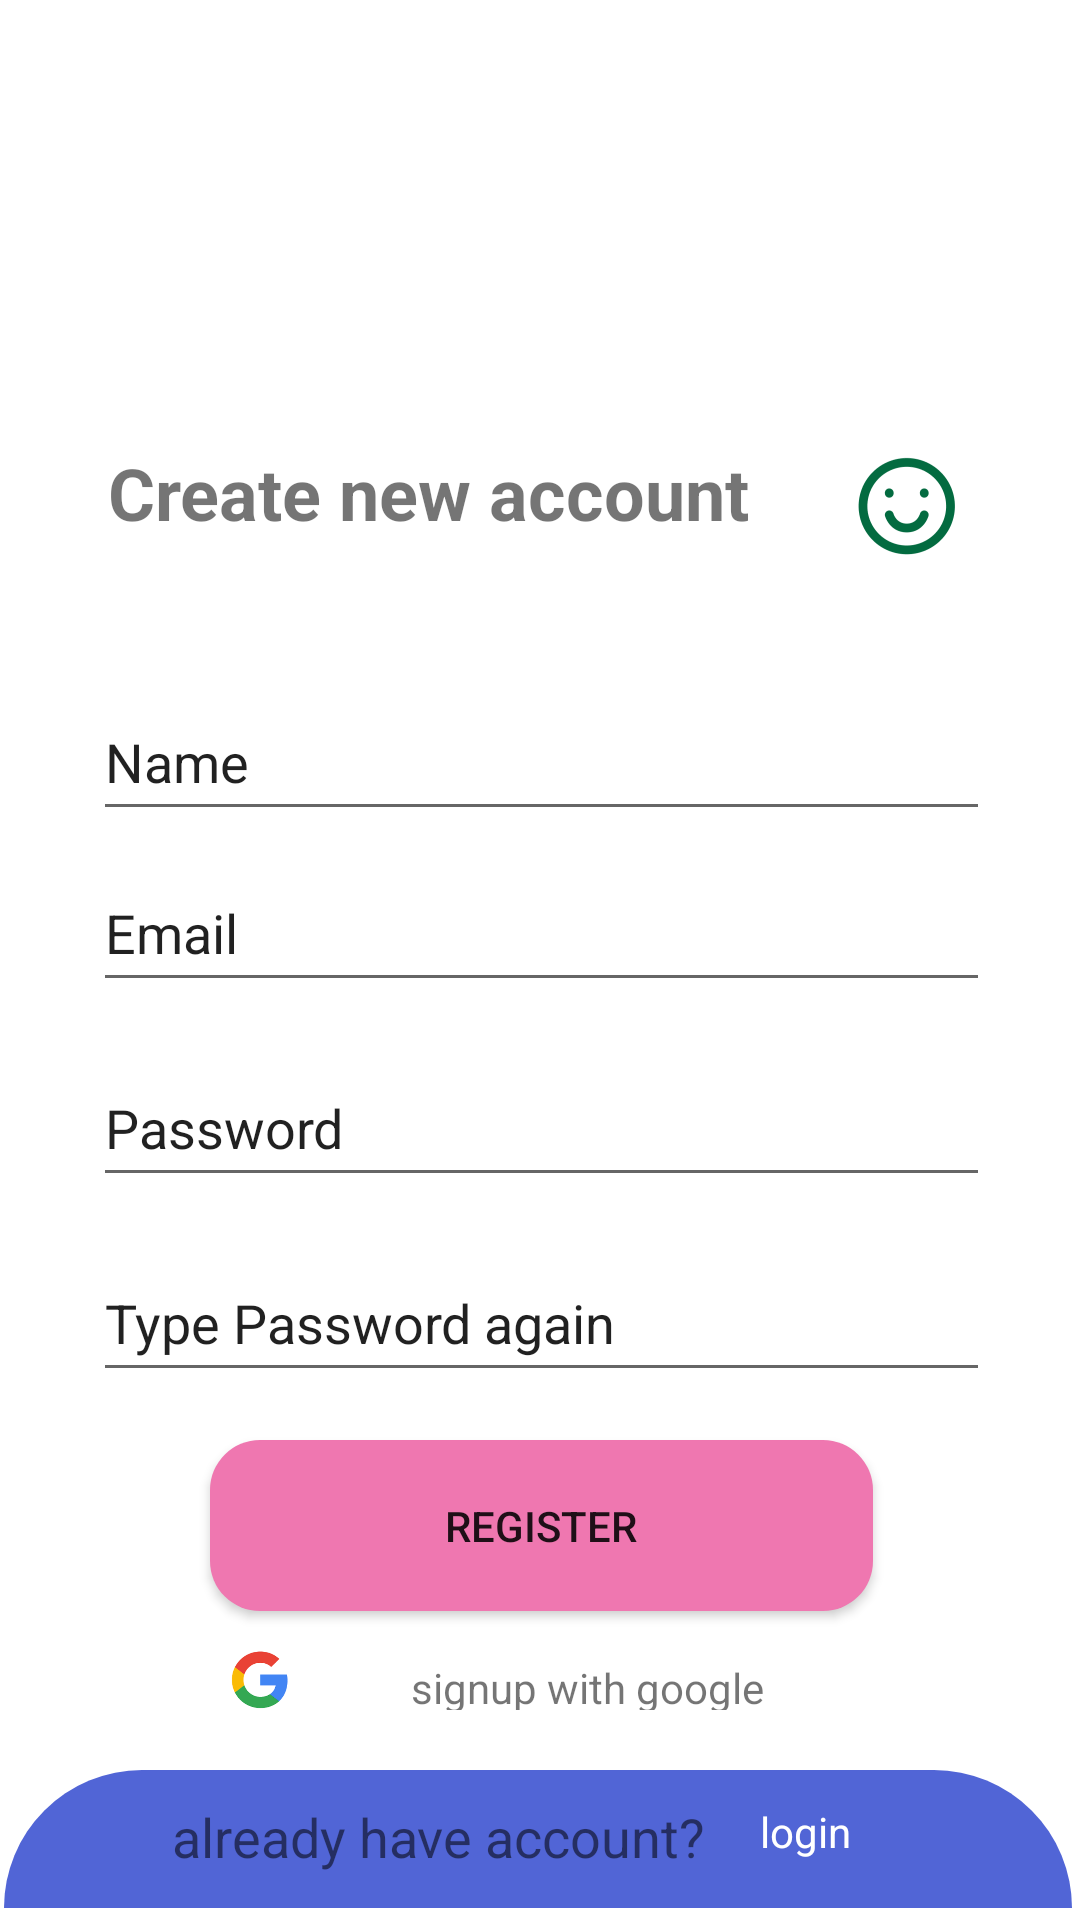

Icons on this 1080w x 1920h Android screen, each with the point to tap as [x,y]:
matcuoi: [906,506]
